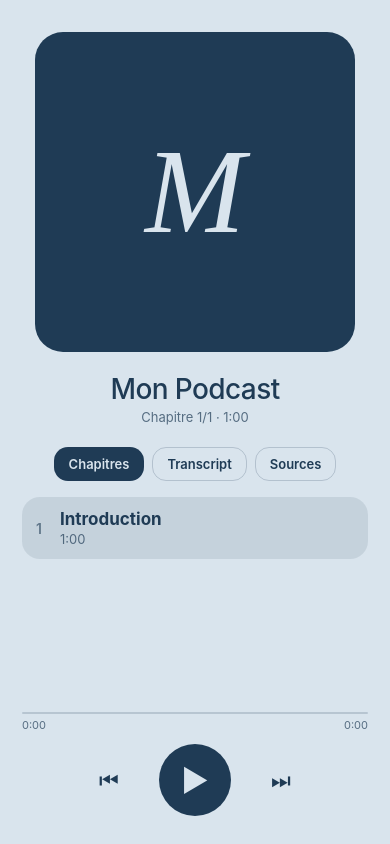
Test: PlayerScreen › switches content when tapping on Transcript and Sources tabs
This screenshot has width=390, height=844.
Expected: the element with test id "player-tab-chapters" is shown, [54,447,144,481]
Expected: the text "Bonjour à tous." is not shown
Click the element with test id "player-tab-transcript".
click(200, 464)  # box [152,447,247,481]
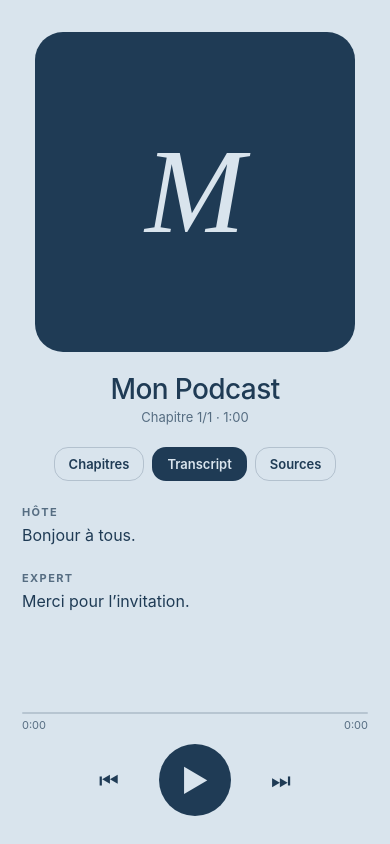
Expected: the text "https://lemonde.fr/ia" is not shown
Expected: the text "Bonjour à tous." is shown, [22,525,136,545]
Expected: the text "Merci pour l’invitation." is shown, [22,591,190,611]
Click the element with test id "player-tab-sources".
click(296, 464)  # box [255,447,336,481]
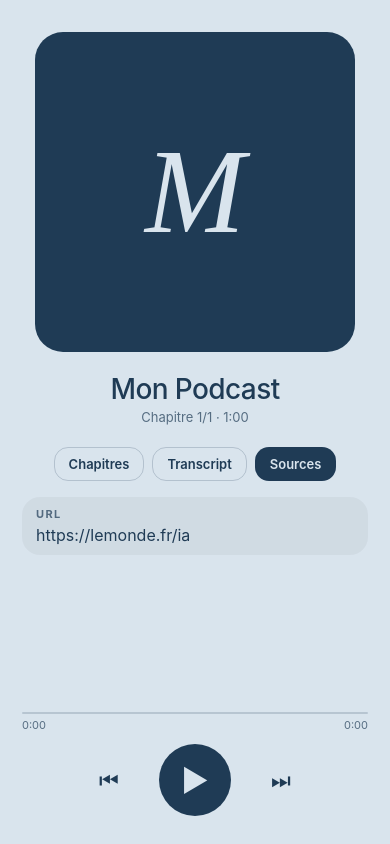
Expected: the text "https://lemonde.fr/ia" is shown, [36,525,190,545]
Expected: the text "Bonjour à tous." is gone
